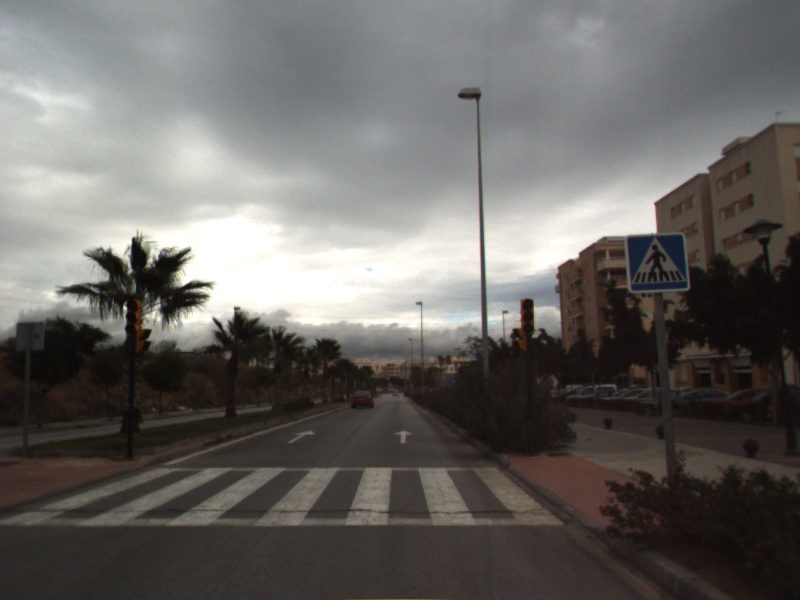STRAIGHT: (285, 427, 317, 445), (392, 428, 415, 445)
